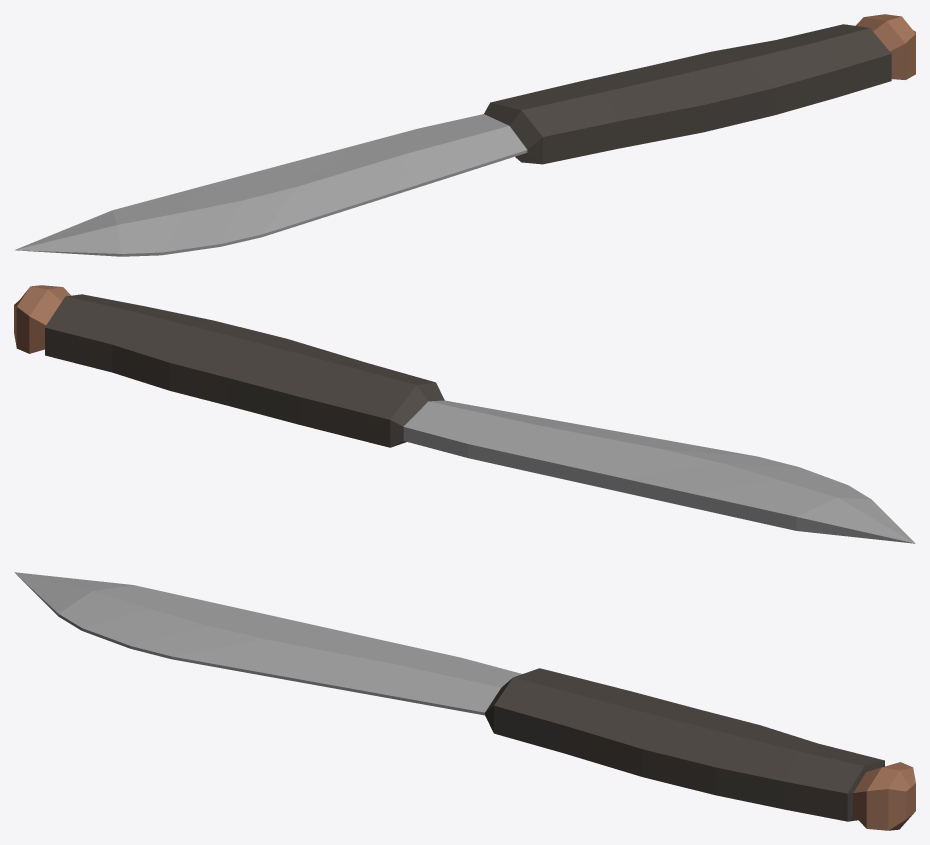
Rendered from Athame.fbx.
The picture shows the model from 3 angles, top to bottom: view 1: azimuth 30°, elevation 25°; view 2: azimuth 150°, elevation 25°; view 3: azimuth 330°, elevation 25°; orthographic projection. The views are drawn at different scales.
Visible parts, largest first — view 1: pPlane1; view 2: pPlane1; view 3: pPlane1.
Boxes of the visible parts, <box> form: pPlane1: <box>14,14,915,256</box>; pPlane1: <box>14,285,915,543</box>; pPlane1: <box>14,572,915,830</box>.
Bounding box in the file's own units: 1.41 × 0.0874 × 0.1804.
